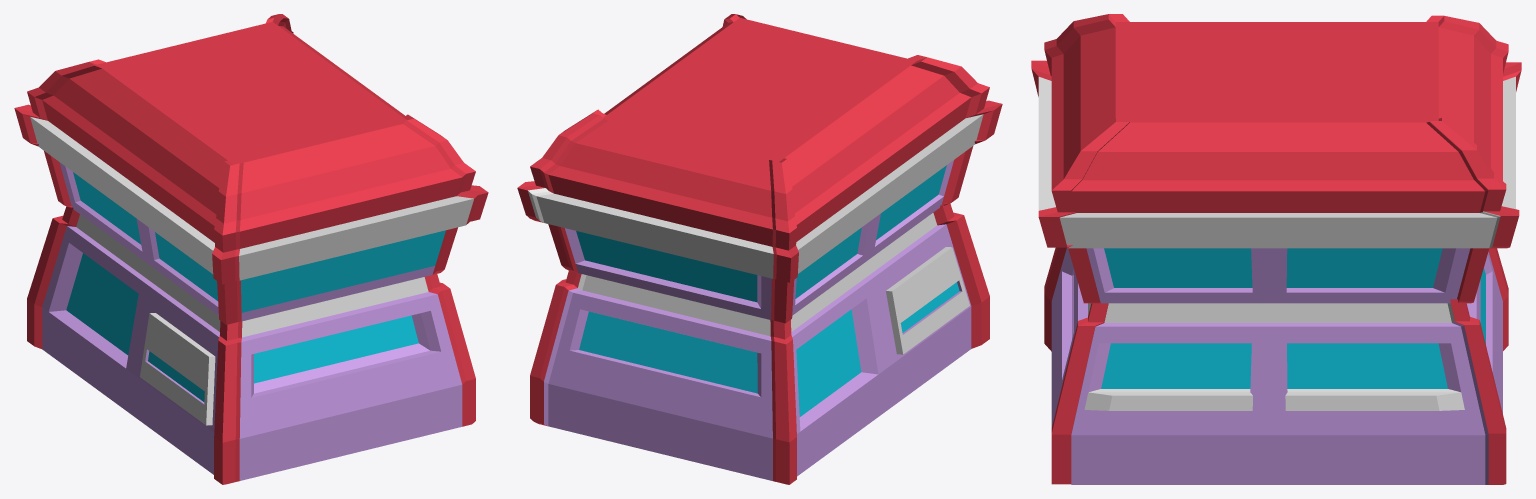
Rendered from FBX_SD_mShop2Top.fbx.
3 views of the same model, side by side, from view 1: azimuth 30°, elevation 25°; view 2: azimuth 150°, elevation 25°; view 3: azimuth 270°, elevation 25° (orthographic). The views are drawn at different scales.
Parts seen in each view (by area): view 1: FBX_SD_mShop2Top; view 2: FBX_SD_mShop2Top; view 3: FBX_SD_mShop2Top.
Part boxes in pixels (x1,y1,x2,y2): FBX_SD_mShop2Top: (14,14,488,484); FBX_SD_mShop2Top: (517,14,1002,484); FBX_SD_mShop2Top: (1031,14,1521,484).
Size of the model in its own units: 841 by 867 by 1107.
